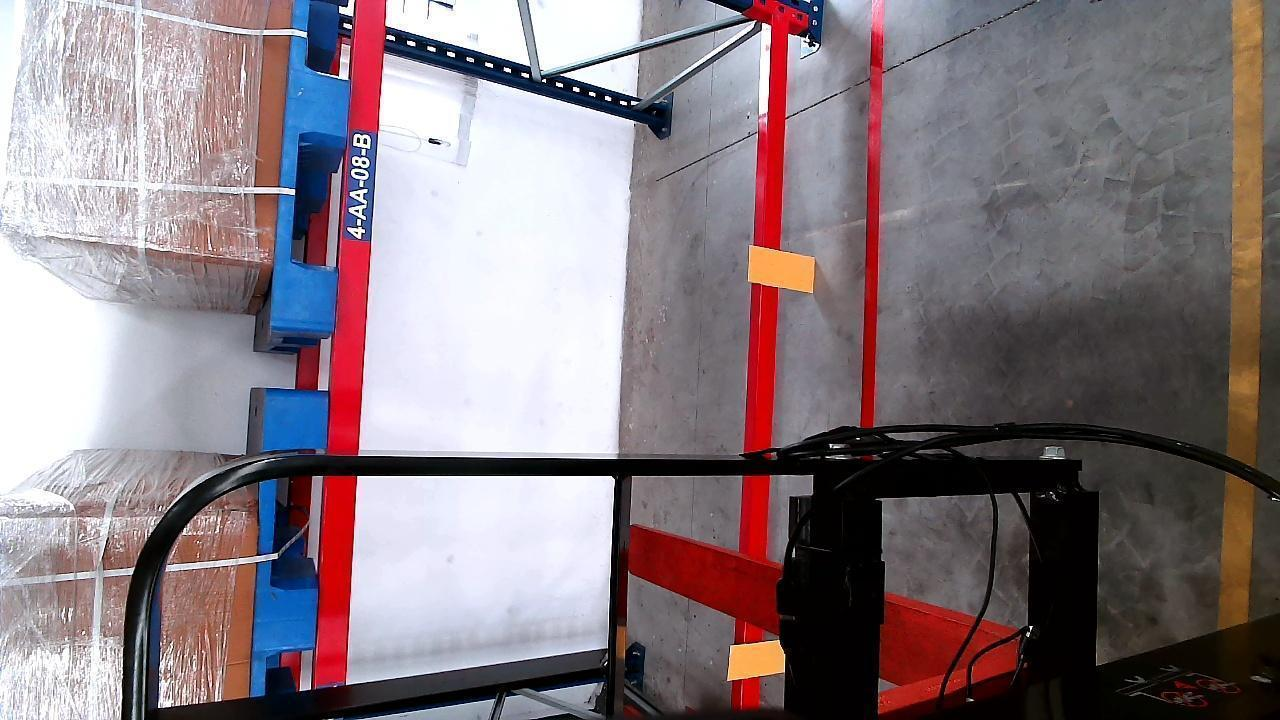red_line: (862, 7, 886, 429)
yellow_line: (1226, 0, 1265, 640)
